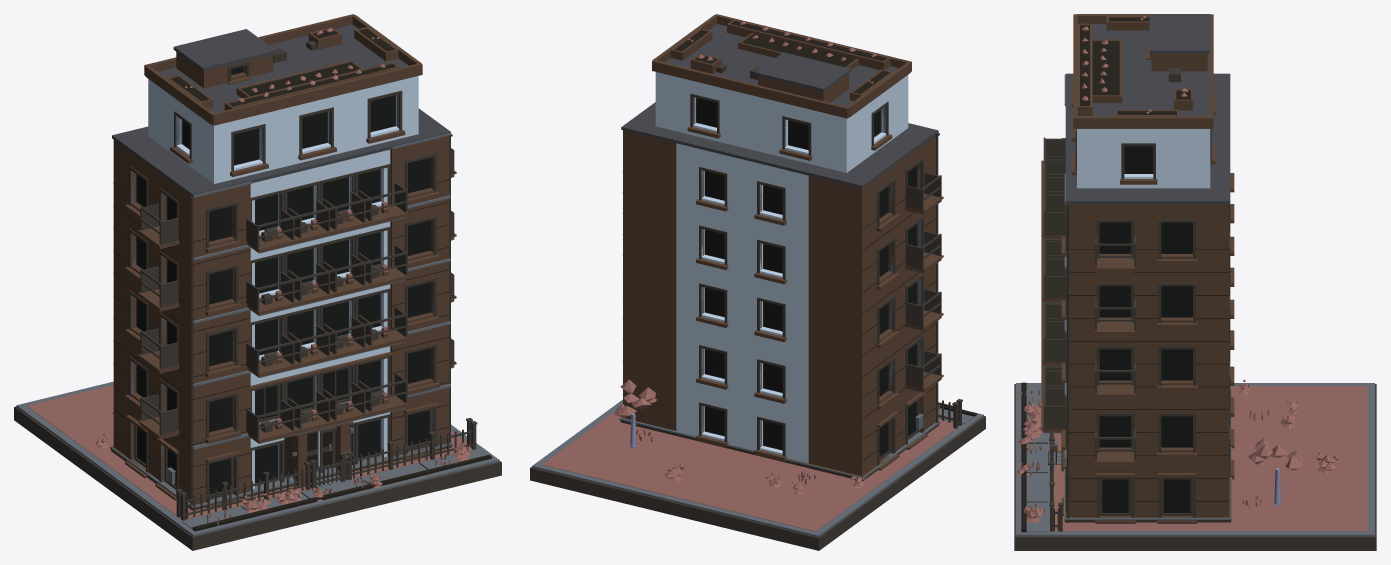
File: apartment-modern-bar.glb
3 renders of one model, left to right at view 1: azimuth 30°, elevation 25°; view 2: azimuth 150°, elevation 25°; view 3: azimuth 270°, elevation 25°, orthographic. The views are drawn at different scales.
Parts seen in each view (by area): view 1: body-0, body-4, body-2, body-5, body-3, body-1, body-7, body-6, dd-opening:ew-r-0:4, dd-opening:ew-l-0:4, dd-opening:mw-1-1:4, dd-opening:mw-1-0:5 (+2 smaller); view 2: body-0, body-3, body-6, body-4, body-2, body-7, body-5, body-1; view 3: body-0, body-6, body-4, body-2, body-7, body-5, body-1, body-3, dd-opening:fw-r-s-0:4, dd-opening:fw-r-r-0:4.
Boxes of the visible parts, x1,y1,x2,y2 form: body-0: (111, 14, 456, 510); body-4: (14, 40, 501, 550); body-2: (110, 29, 491, 531); body-5: (136, 66, 430, 485); body-3: (148, 76, 418, 488); body-1: (16, 65, 499, 536); body-7: (112, 24, 450, 197); body-6: (27, 28, 472, 525); dd-opening:ew-r-0:4: (408, 410, 428, 448); dd-opening:ew-l-0:4: (209, 459, 230, 496); dd-opening:mw-1-1:4: (287, 377, 311, 409); dd-opening:mw-1-0:5: (255, 385, 276, 419); body-0: (620, 14, 943, 481); body-3: (655, 72, 908, 463); body-6: (542, 21, 959, 531); body-4: (530, 64, 985, 550); body-2: (620, 21, 976, 480); body-7: (621, 24, 938, 188); body-5: (696, 97, 916, 450); body-1: (532, 97, 983, 537); body-0: (1041, 14, 1234, 523); body-6: (1017, 15, 1367, 531); body-4: (1014, 53, 1376, 550); body-2: (1021, 18, 1231, 532); body-7: (1065, 14, 1230, 204); body-5: (1100, 146, 1192, 447); body-1: (1016, 74, 1374, 536); body-3: (1077, 129, 1210, 188); dd-opening:fw-r-s-0:4: (1102, 479, 1128, 512); dd-opening:fw-r-r-0:4: (1164, 479, 1190, 512).
Size of the model in its own units: 15 by 19.24 by 15.
